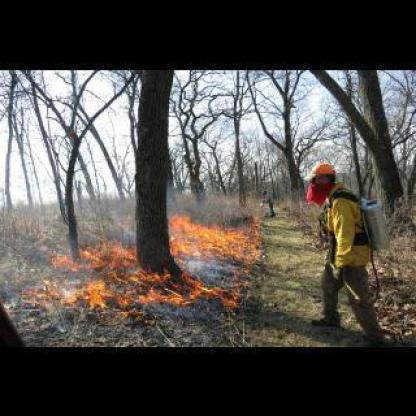fire: (32, 259, 251, 310), (160, 208, 262, 265), (56, 232, 136, 270)
